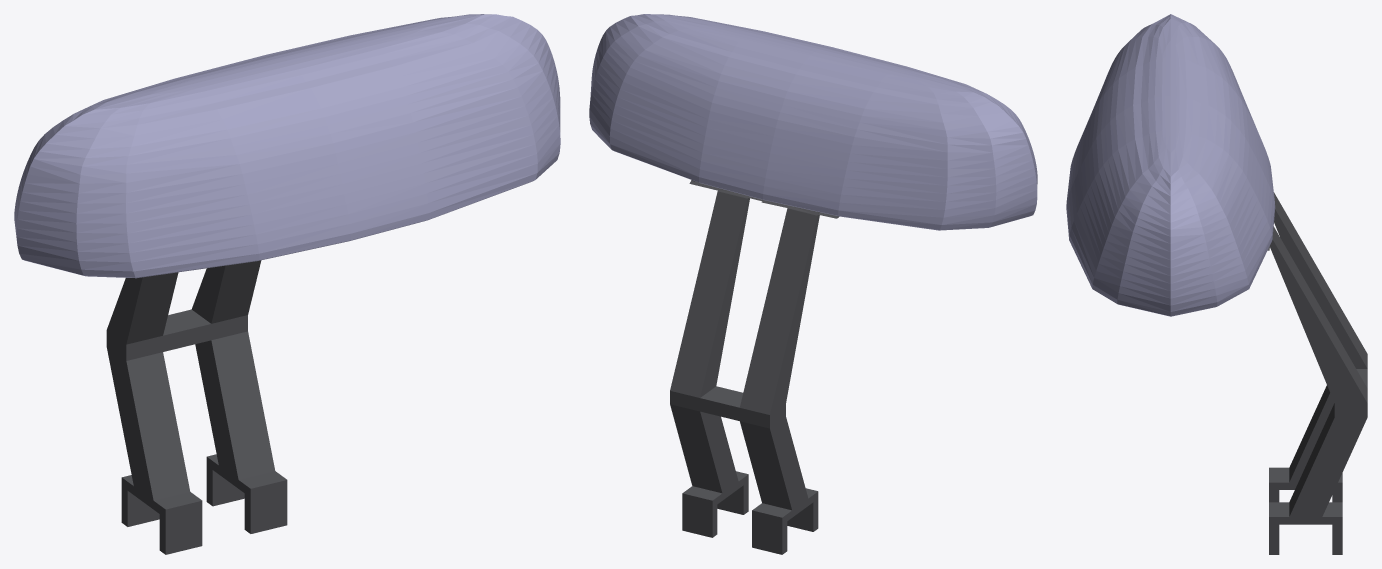
The model's file is lampWithBulb.fbx.
The picture shows the model from 3 angles, left to right: view 1: azimuth 30°, elevation 25°; view 2: azimuth 150°, elevation 25°; view 3: azimuth 270°, elevation 25°; orthographic projection. The views are drawn at different scales.
Parts seen in each view (by area): view 1: pSphere2; view 2: pSphere2; view 3: pSphere2.
Part boxes in pixels (box(x1,y1,x2,y2)): pSphere2: box(14, 14, 560, 554); pSphere2: box(589, 14, 1037, 554); pSphere2: box(1066, 14, 1367, 554).
Bounding box in the file's own units: 0.4517 × 0.4146 × 0.2601.
